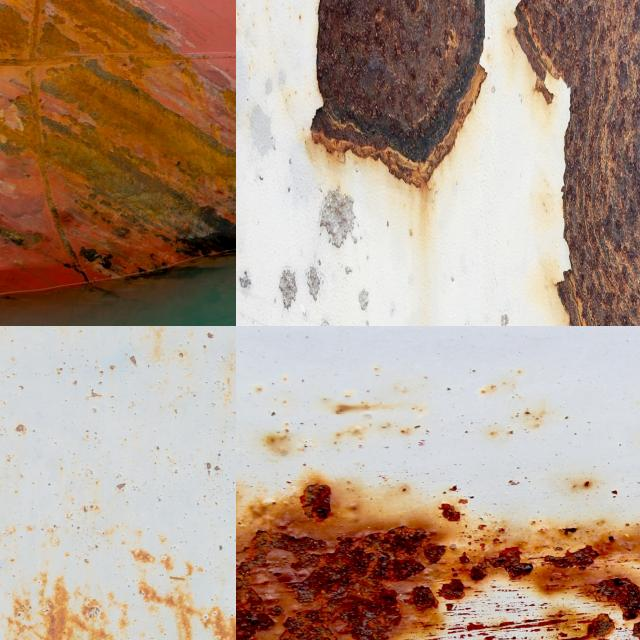Pitting Corrosion: (311, 0, 486, 187), (236, 526, 445, 640), (412, 556, 492, 614), (592, 577, 640, 619), (490, 548, 533, 579), (544, 546, 599, 569), (300, 483, 331, 519), (588, 614, 614, 638), (439, 503, 460, 522)
